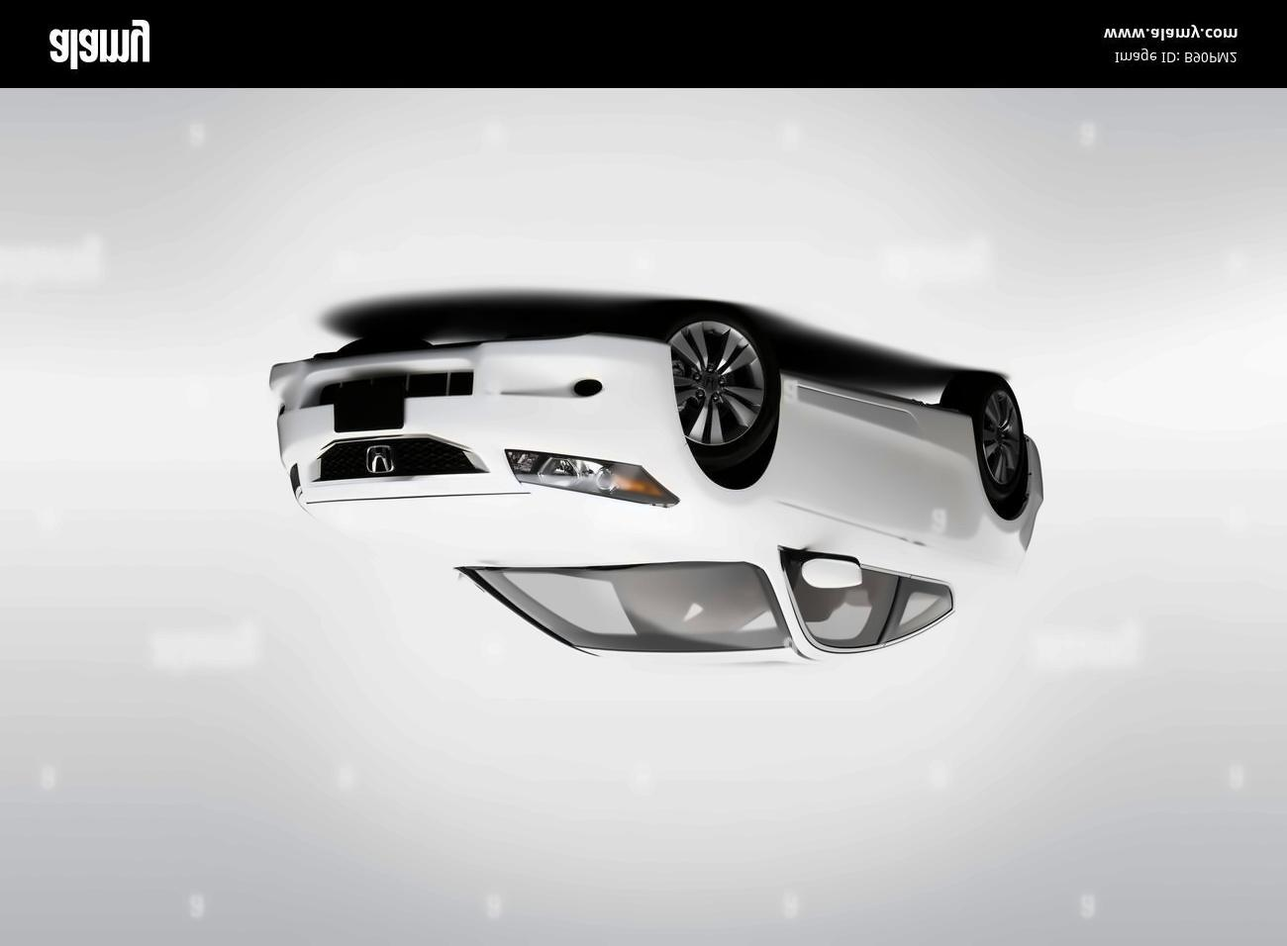Car hood: (293, 477, 756, 572)
Driver-s door - -F-R-: (787, 381, 938, 662)
Fender - -F-R-: (655, 377, 787, 566)
Fender - -R-R-: (943, 405, 1027, 592)
Front bumper: (263, 330, 687, 449)
Headlight - -L-: (281, 454, 314, 502)
Headlight - -R-: (498, 443, 682, 511)
Rear bumper: (1021, 427, 1054, 521)
Side bumper - -R-: (775, 365, 974, 434)
Side mirror - -R-: (789, 547, 873, 598)
